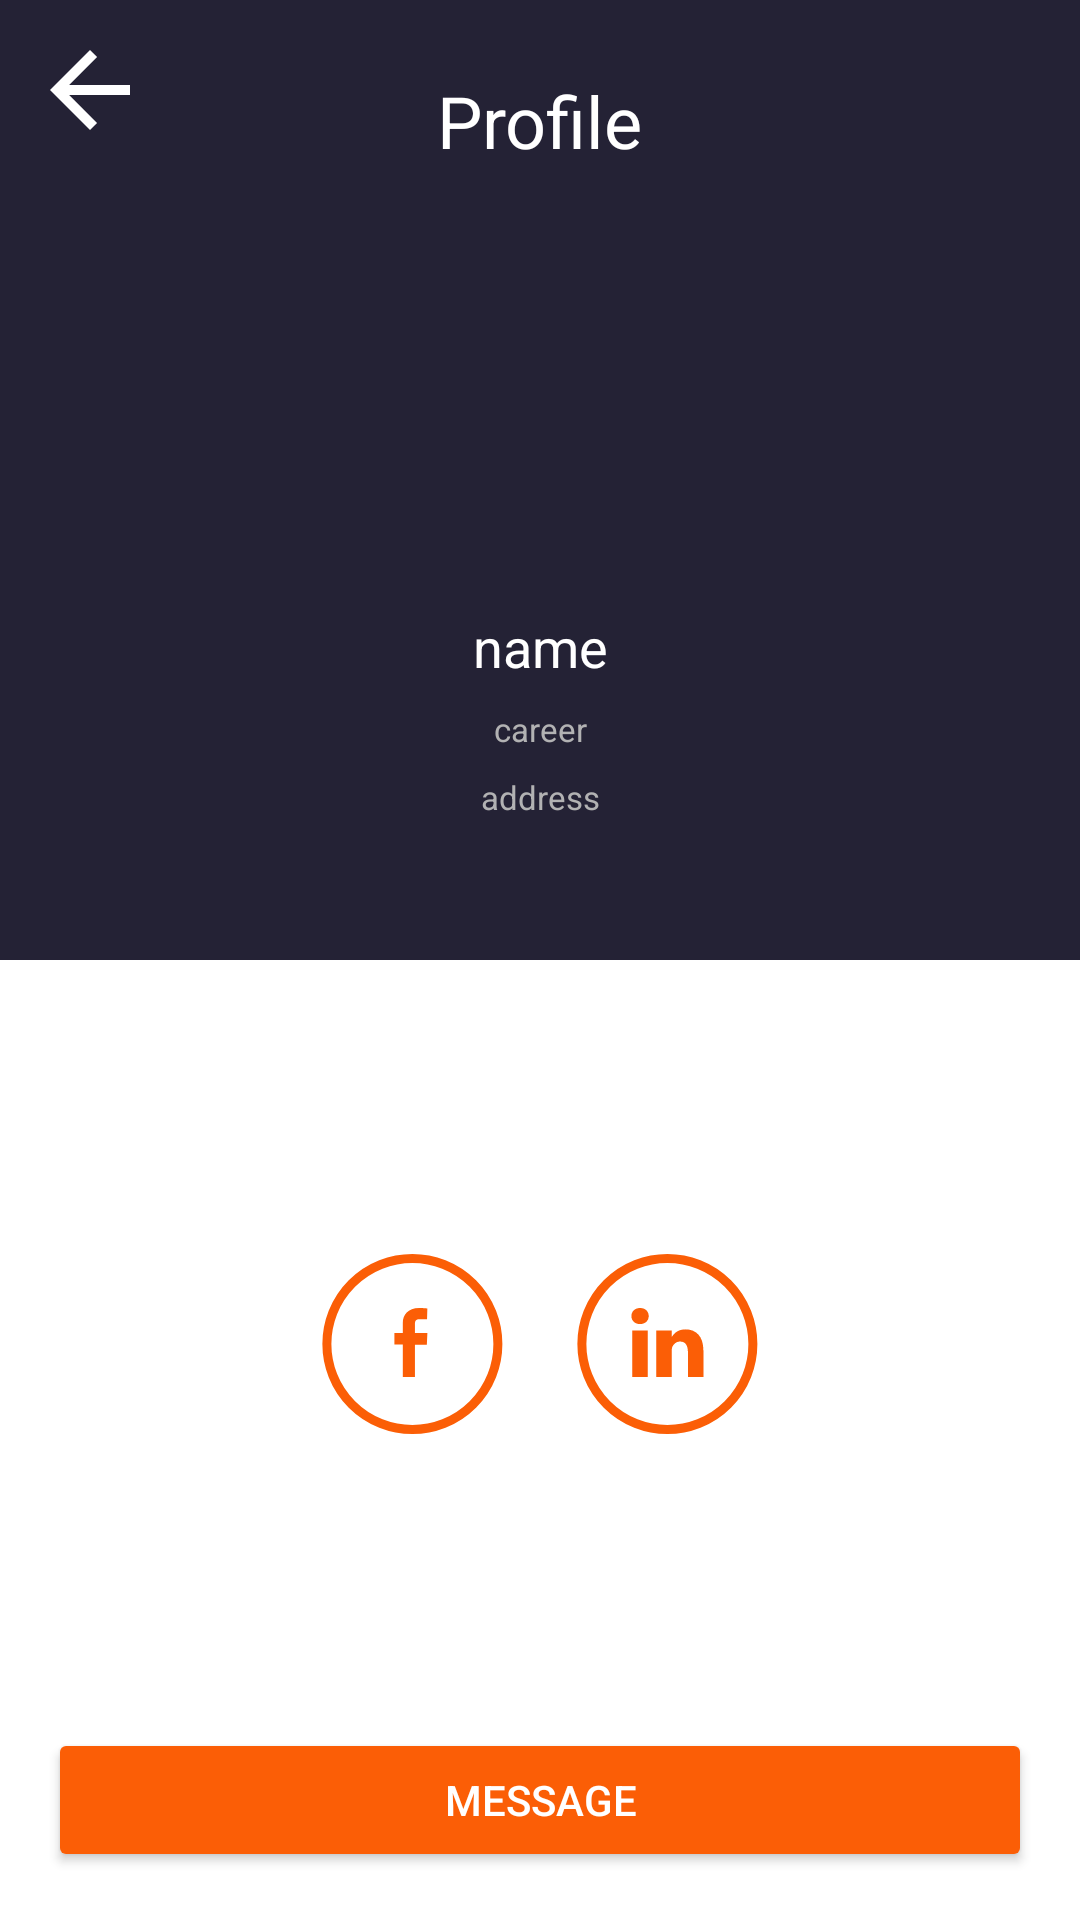

Icons on this 1080px x 1920px Android screen, each with its box as (x1, y1, x2, y2):
back arrow: (50, 50, 130, 130)
